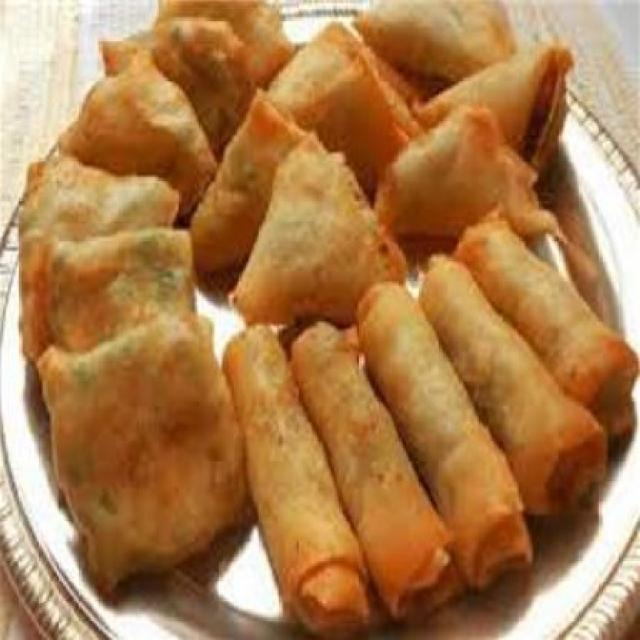samosa: (185, 1, 586, 314)
spring rolls: (231, 220, 637, 637)
